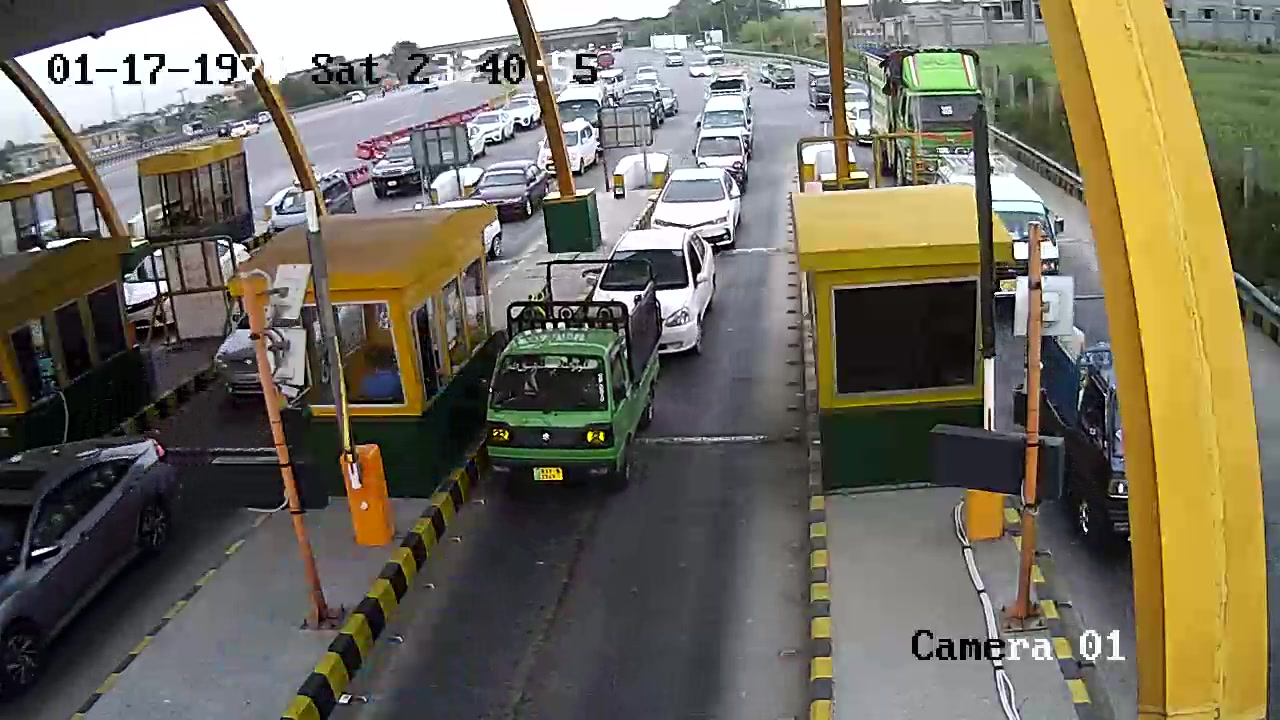F1: (477, 251, 657, 512)
